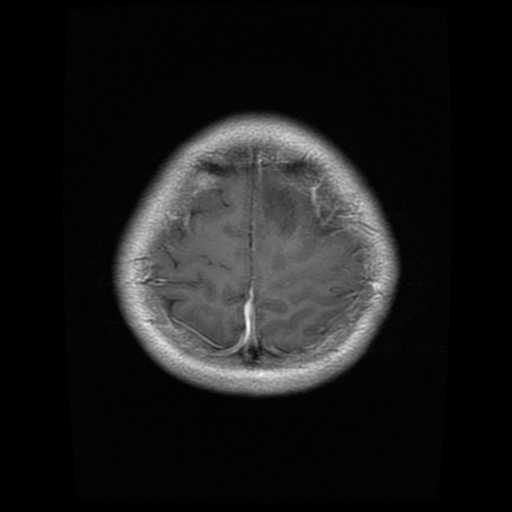glioma: (258, 169, 337, 241)
